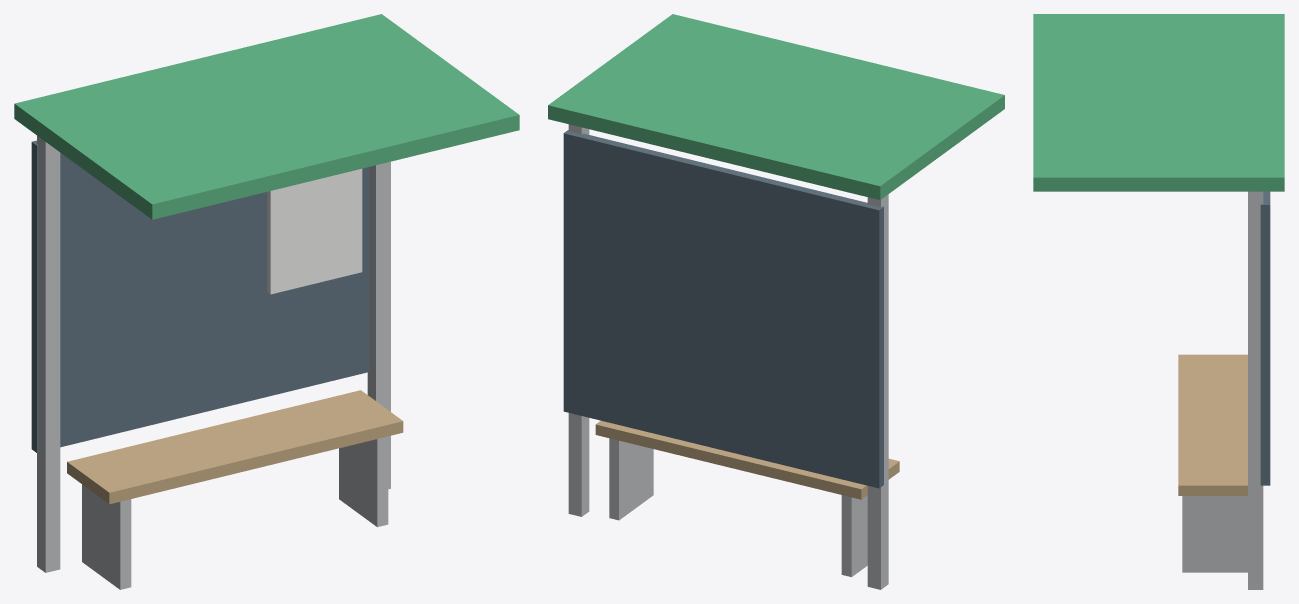
The model's file is VJ_Marquesina.fbx.
3 views of the same model, side by side, from view 1: azimuth 30°, elevation 25°; view 2: azimuth 150°, elevation 25°; view 3: azimuth 270°, elevation 25° (orthographic). The views are drawn at different scales.
Parts seen in each view (by area): view 1: VJ_Marquesina; view 2: VJ_Marquesina; view 3: VJ_Marquesina.
Boxes of the visible parts, x1,y1,x2,y2 form: VJ_Marquesina: (14,14,519,589); VJ_Marquesina: (548,14,1004,589); VJ_Marquesina: (1033,14,1284,589).
Size of the model in its own units: 2 by 2.38 by 1.3.
